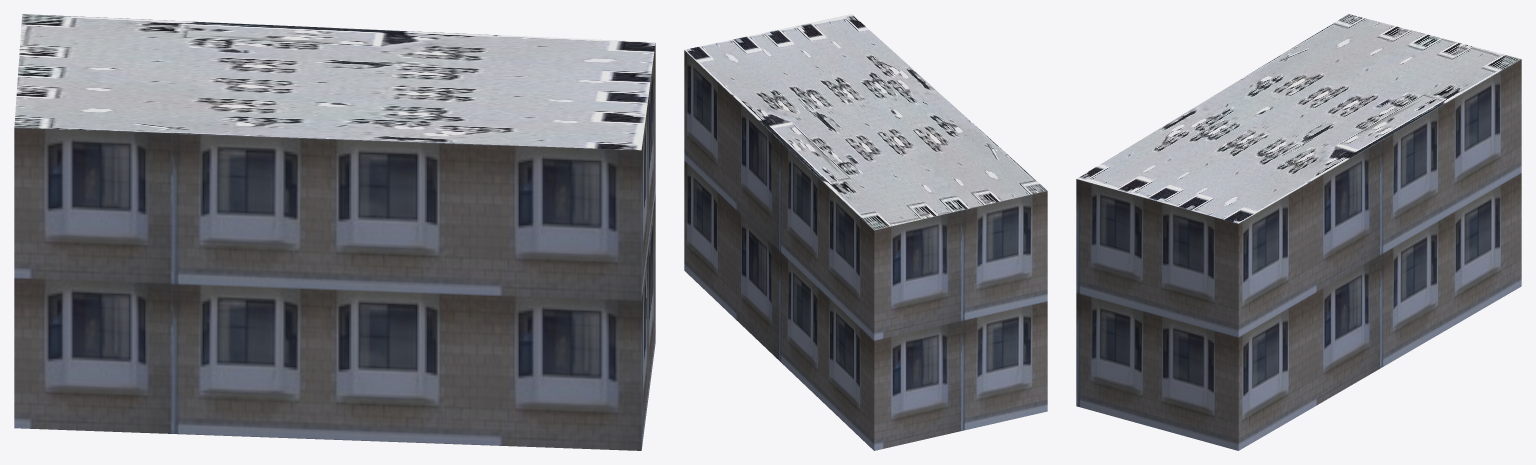
Rendered from ResTex__2424.fbx.
3 views of the same model, side by side, from view 1: azimuth 30°, elevation 25°; view 2: azimuth 150°, elevation 25°; view 3: azimuth 270°, elevation 25° (orthographic). The views are drawn at different scales.
Visible parts, largest first — view 1: CityEngineMaterial_3_m, CityEngineMaterial_m; view 2: CityEngineMaterial_3_m, CityEngineMaterial_m; view 3: CityEngineMaterial_3_m, CityEngineMaterial_m.
Boxes of the visible parts, <box> form: CityEngineMaterial_3_m: <box>14,43,655,450</box>; CityEngineMaterial_m: <box>14,14,655,150</box>; CityEngineMaterial_3_m: <box>684,50,1047,450</box>; CityEngineMaterial_m: <box>685,14,1047,230</box>; CityEngineMaterial_3_m: <box>1076,59,1521,450</box>; CityEngineMaterial_m: <box>1077,14,1520,223</box>.
Size of the model in its own units: 11.87 by 6 by 10.65.
2 materials, 2 textured.
